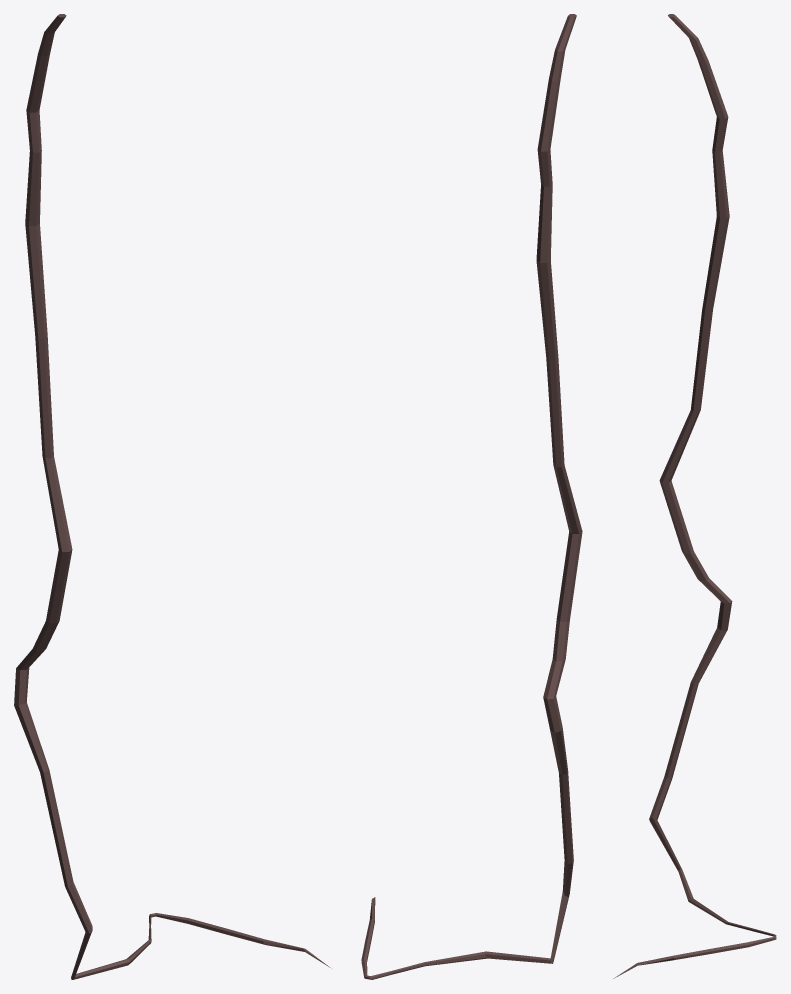
3 renders of one model, left to right at view 1: azimuth 30°, elevation 25°; view 2: azimuth 150°, elevation 25°; view 3: azimuth 270°, elevation 25°, orthographic. The views are drawn at different scales.
Parts seen in each view (by area): view 1: Root 4; view 2: Root 4; view 3: Root 4.
Part boxes in pixels (bbox=[...]): Root 4: bbox=[14, 14, 331, 979]; Root 4: bbox=[361, 14, 582, 979]; Root 4: bbox=[613, 14, 776, 978].
Bounding box in the file's own units: 271 × 1003 × 174.
